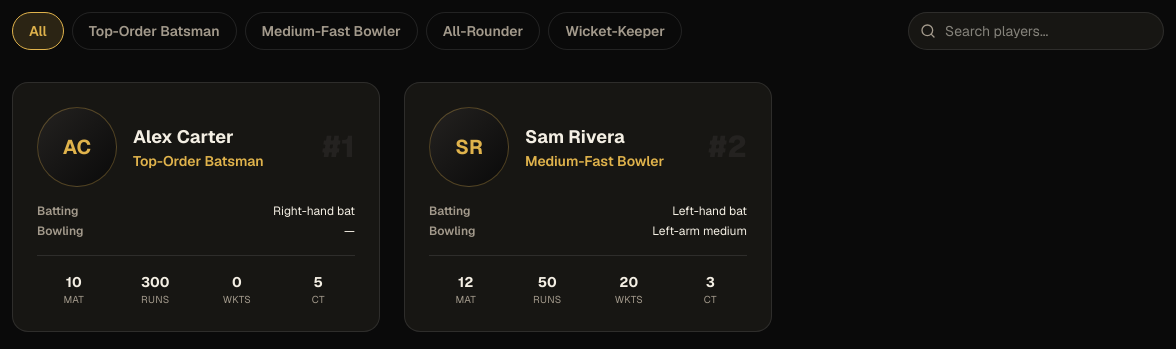
Test: SquadExplorer › filters players by role
Click the button "Medium-Fast Bowler": (331, 31) [244,12,418,50]
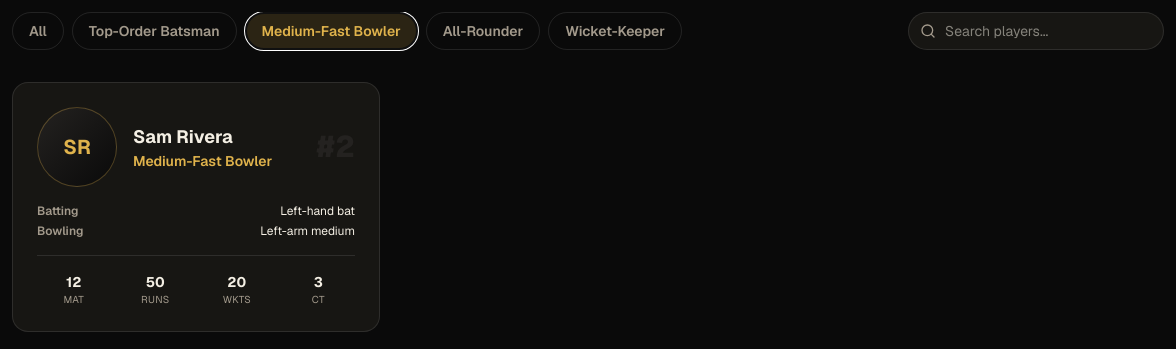
Expected: the text "Sam Rivera" is shown, [133,125,233,148]
Now the text "Alex Carter" is gone
